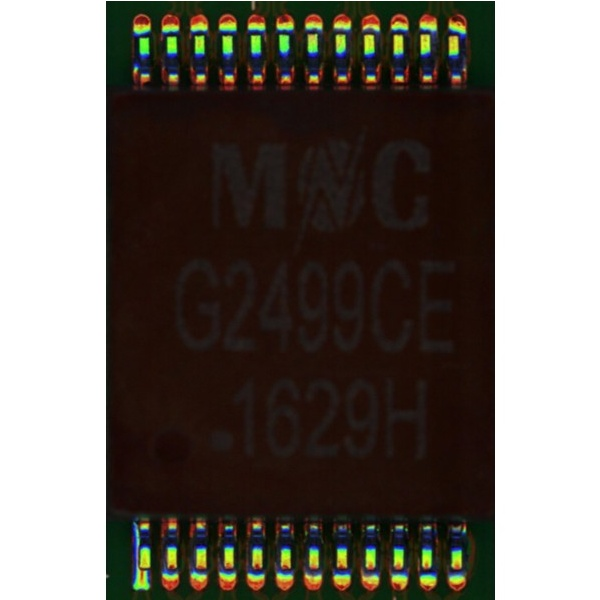Bad_podu: (138, 561, 145, 582)
Bad_qiaojiao: (130, 521, 139, 568)
